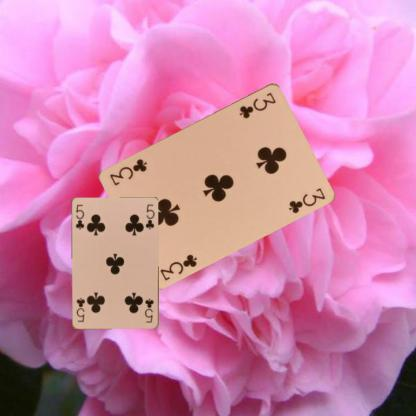3c: (157, 251, 199, 281), (237, 90, 277, 119)
5c: (142, 296, 155, 323), (74, 202, 86, 231)
